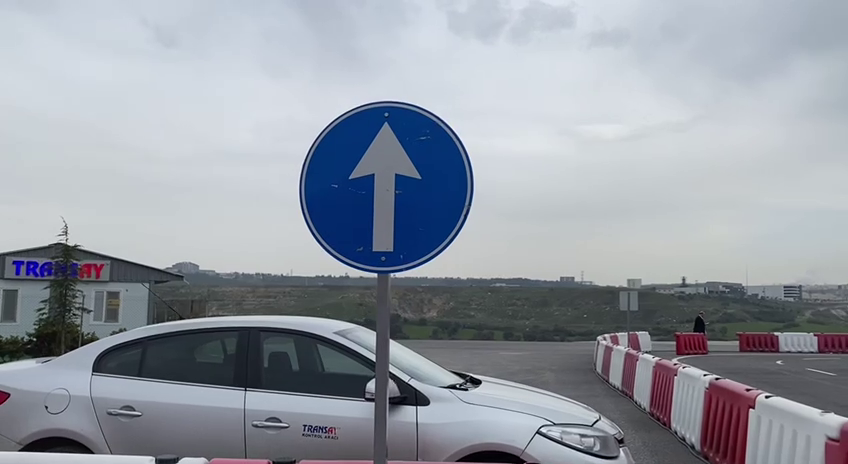forward: (295, 96, 479, 277)
